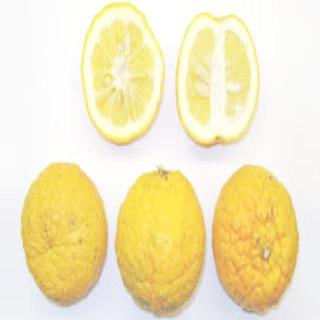orange: (208, 166, 307, 320), (114, 160, 208, 320), (15, 146, 109, 305), (81, 0, 168, 163), (173, 7, 270, 151)
